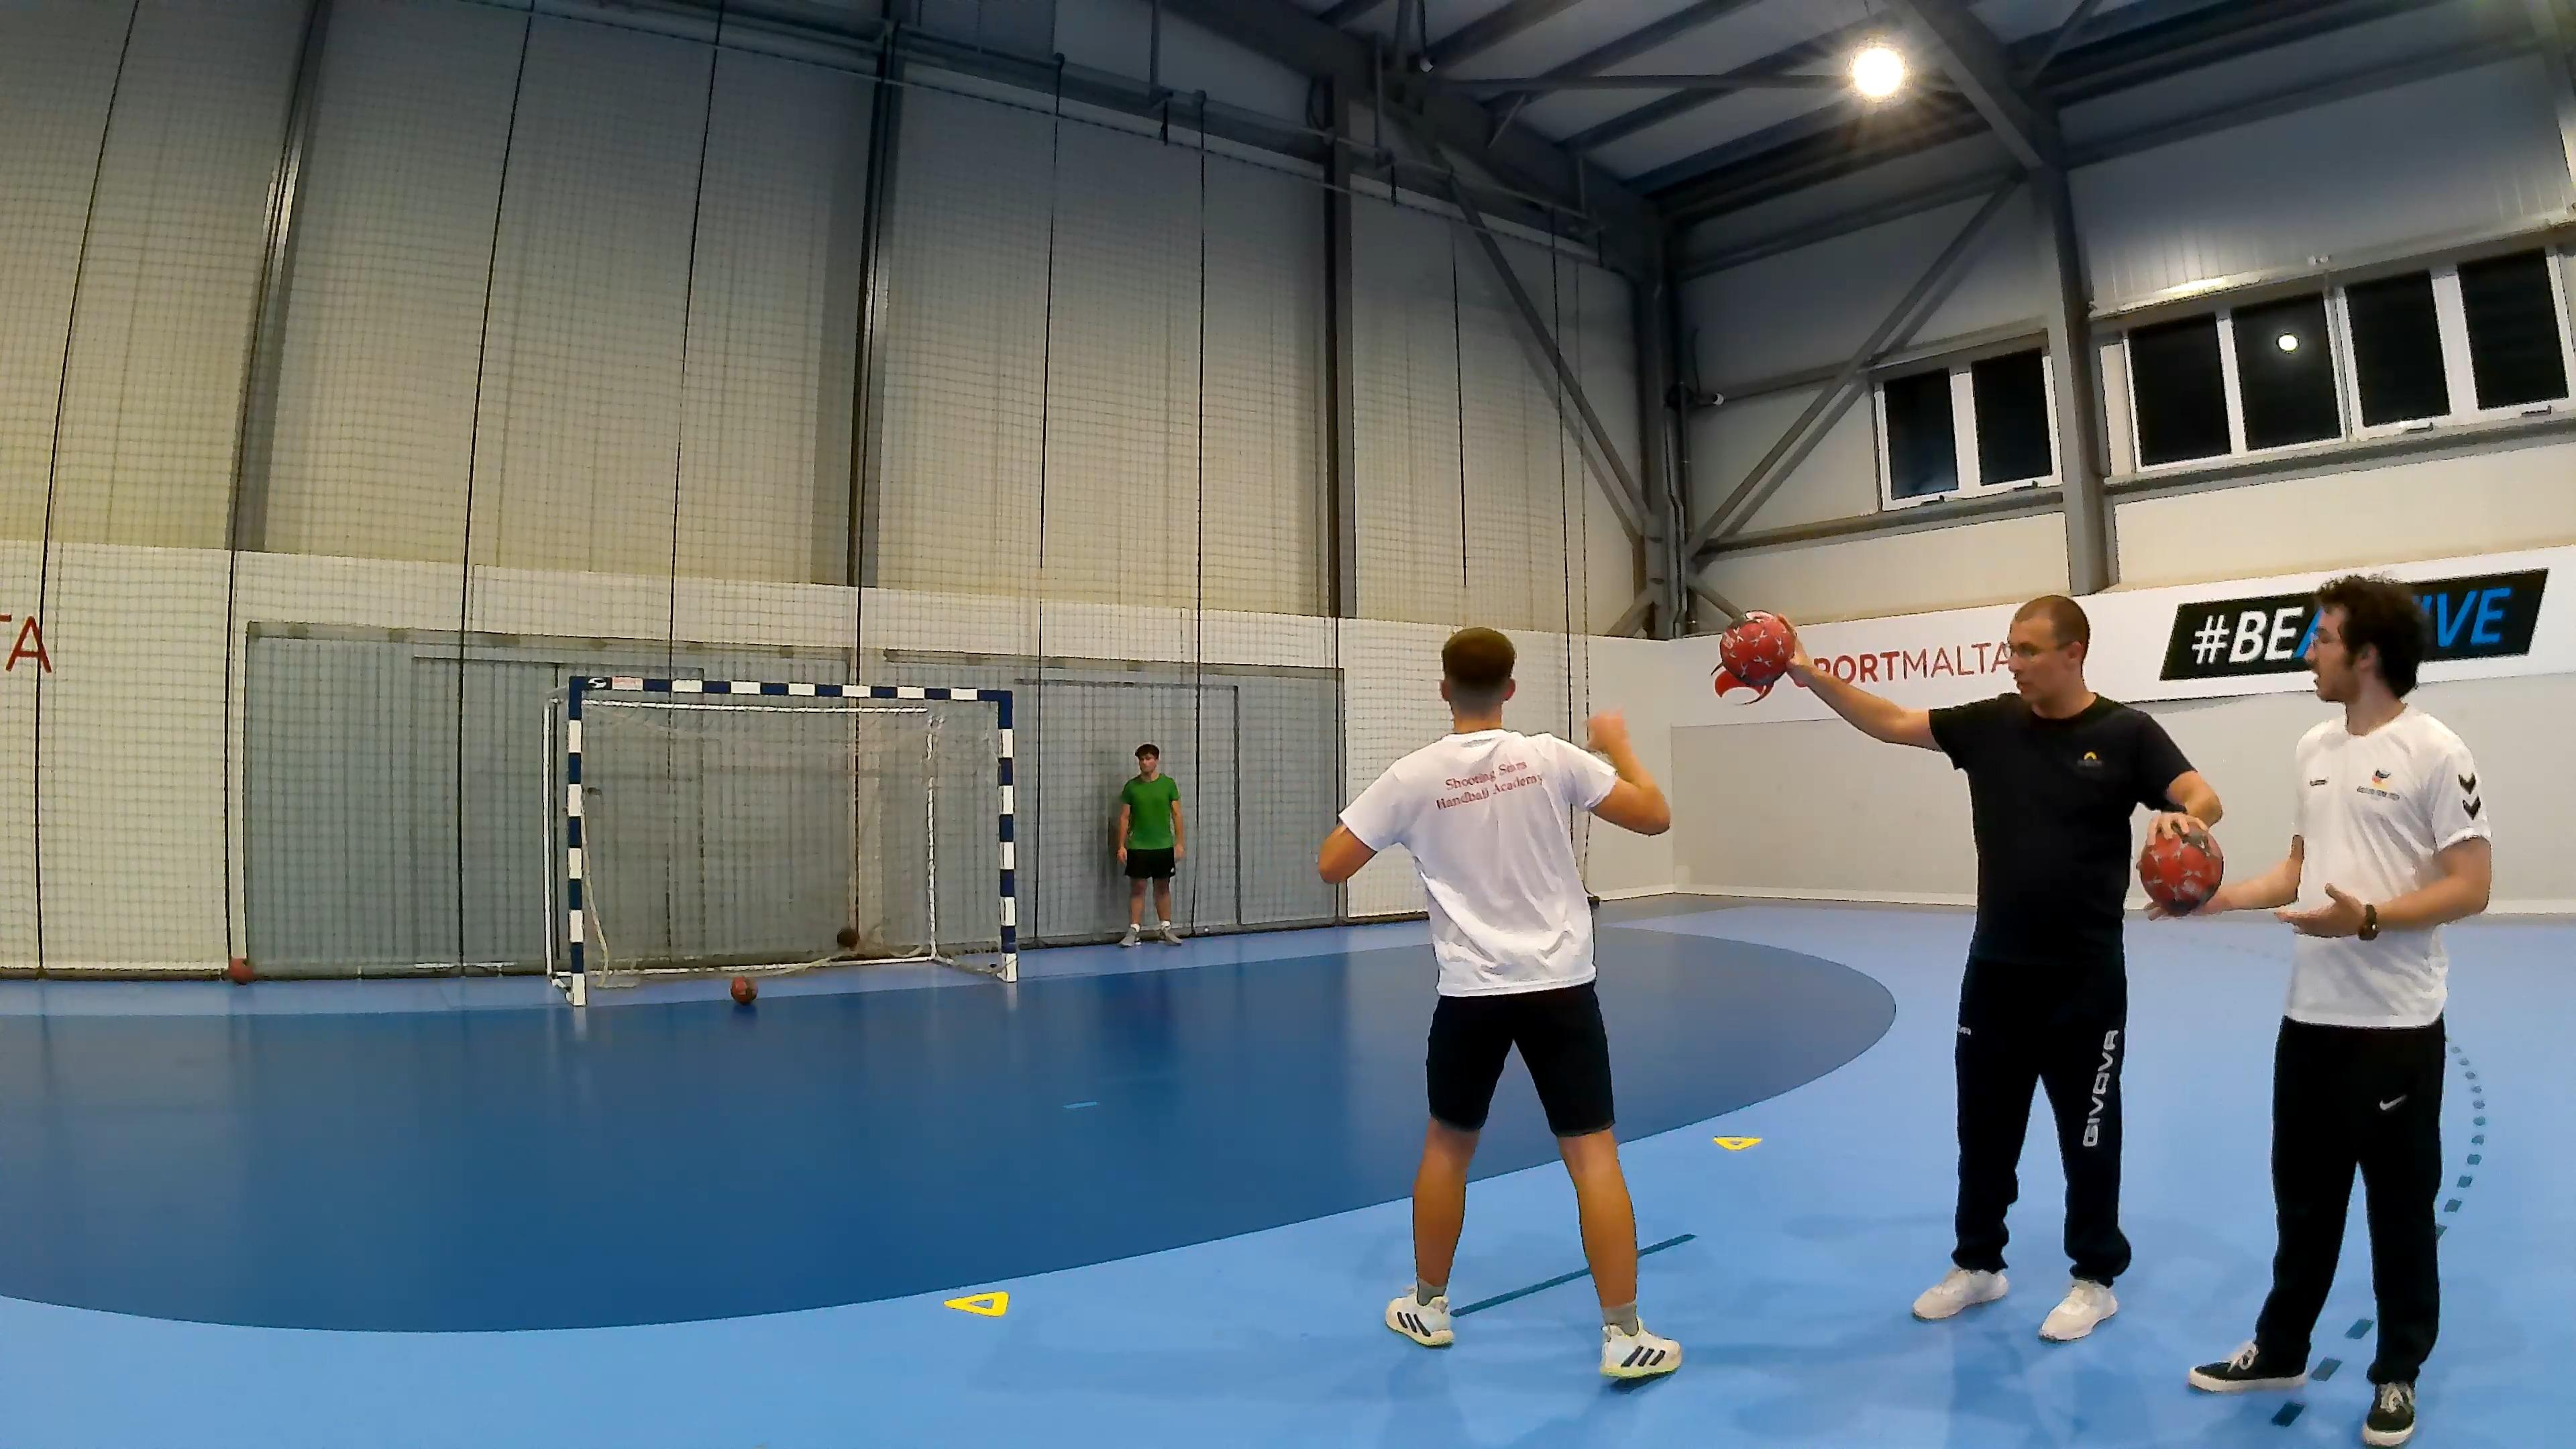handball: (2137, 817, 2224, 916), (1718, 610, 1798, 686), (727, 975, 764, 1010), (225, 952, 258, 987), (835, 927, 862, 950)
